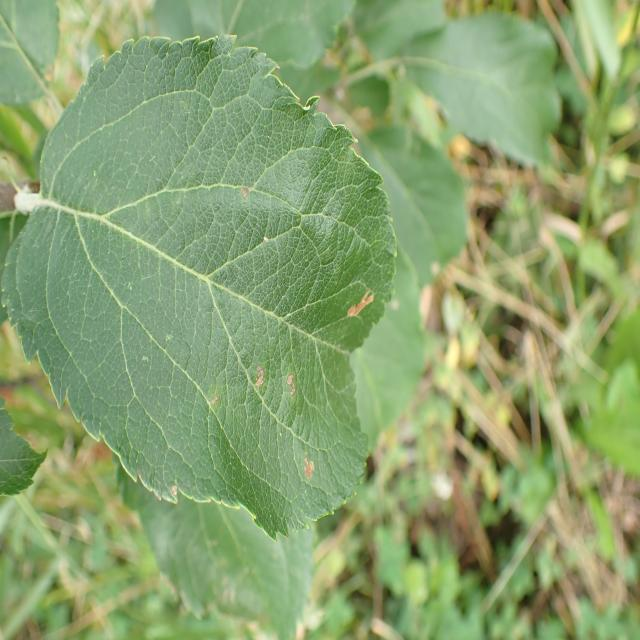Black Rot: (338, 285, 384, 350), (285, 452, 318, 503)
